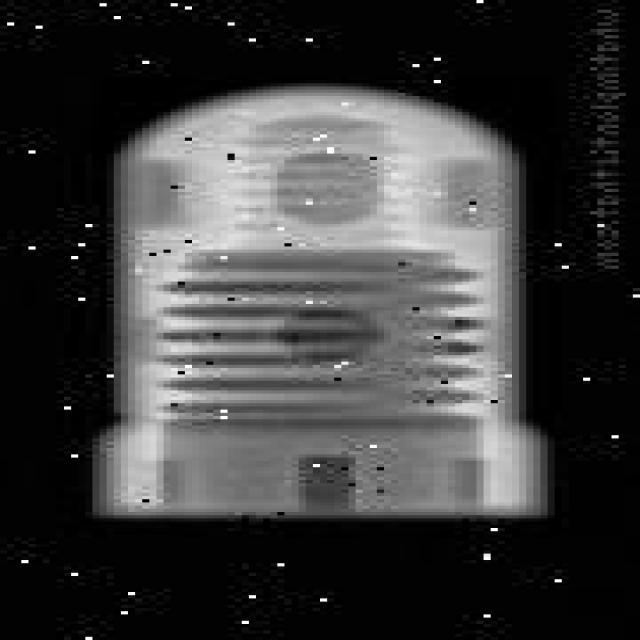Root canal obturation: (97, 75, 555, 518)
